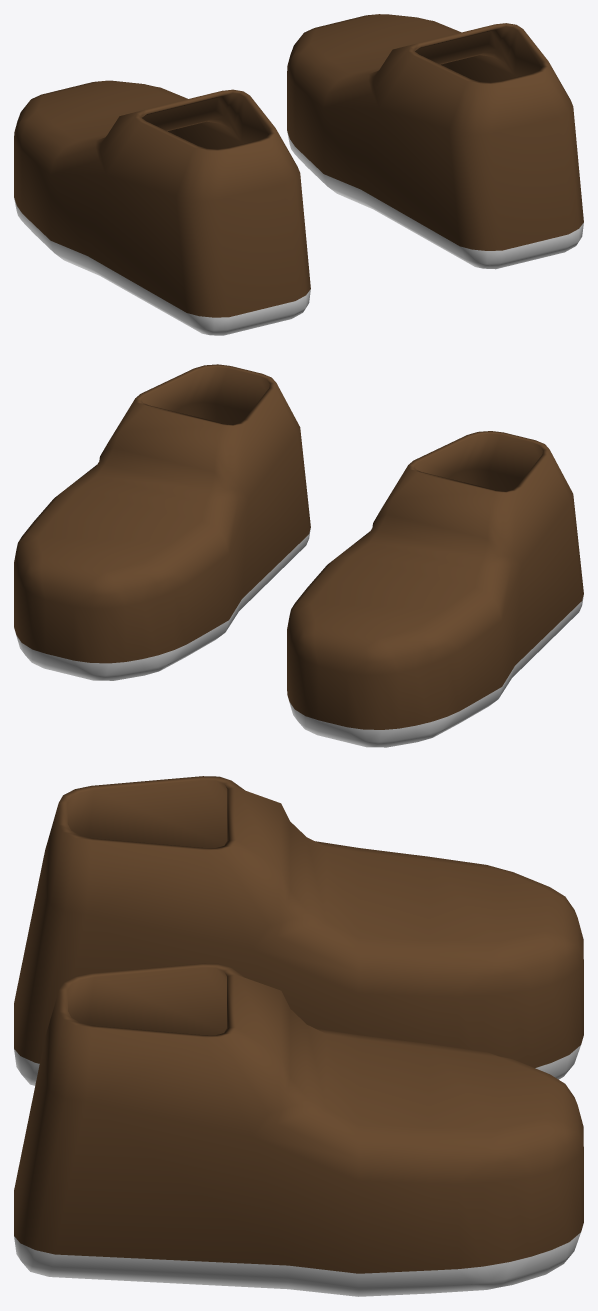
The model's file is uggs.fbx.
3 renders of one model, top to bottom at view 1: azimuth 30°, elevation 25°; view 2: azimuth 150°, elevation 25°; view 3: azimuth 270°, elevation 25°, orthographic. The views are drawn at different scales.
Visible parts, largest first — view 1: Cube.006, Cube.007; view 2: Cube.006, Cube.007; view 3: Cube.007, Cube.006.
Boxes of the visible parts, x1,y1,x2,y2 form: Cube.006: [14, 80, 310, 335]; Cube.007: [287, 14, 583, 269]; Cube.006: [287, 431, 583, 747]; Cube.007: [14, 364, 310, 680]; Cube.007: [14, 963, 583, 1296]; Cube.006: [14, 776, 583, 1085].
Bounding box in the file's own units: 174 × 65.22 × 135.
